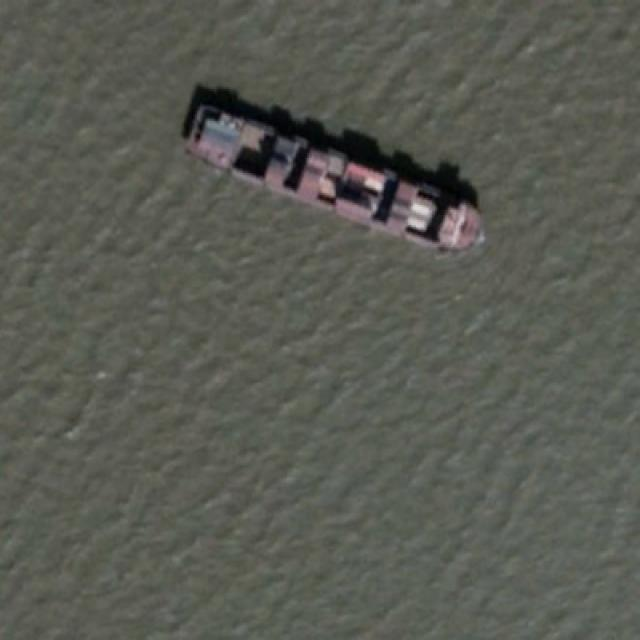boat: (181, 94, 485, 254)
